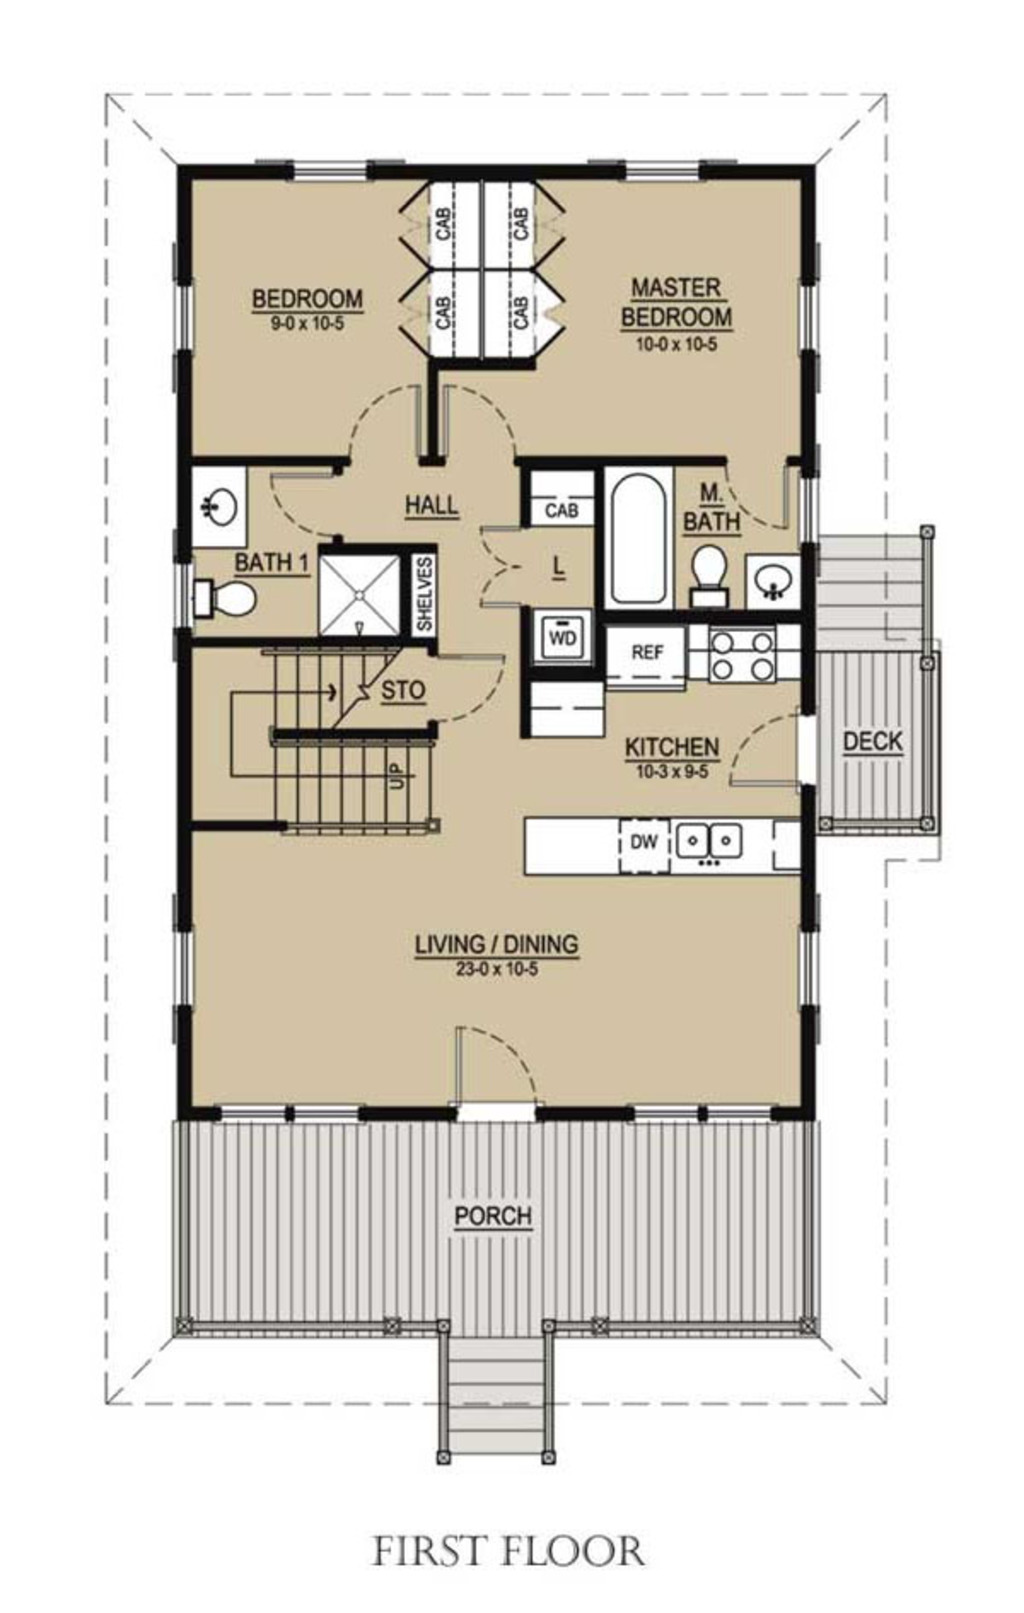door: (443, 1022, 550, 1113), (721, 710, 807, 799), (436, 377, 524, 463), (348, 386, 426, 475), (433, 648, 508, 732), (257, 468, 337, 546), (471, 517, 529, 610)
large_sink: (684, 538, 734, 617), (189, 573, 262, 625)
small_sink: (190, 453, 246, 558), (738, 551, 807, 613)
stairs: (185, 641, 439, 832), (802, 517, 931, 665), (433, 1320, 558, 1470)
tub: (600, 460, 671, 617)
windows: (158, 915, 207, 1025), (276, 158, 372, 194), (610, 149, 707, 185), (167, 275, 203, 364), (784, 277, 821, 356)
